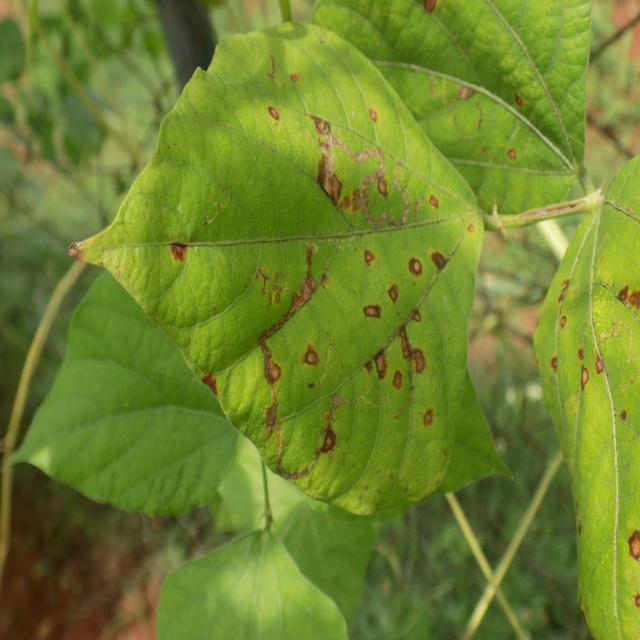Dolicos bean_cercospora leaf spot: (65, 22, 480, 512)
